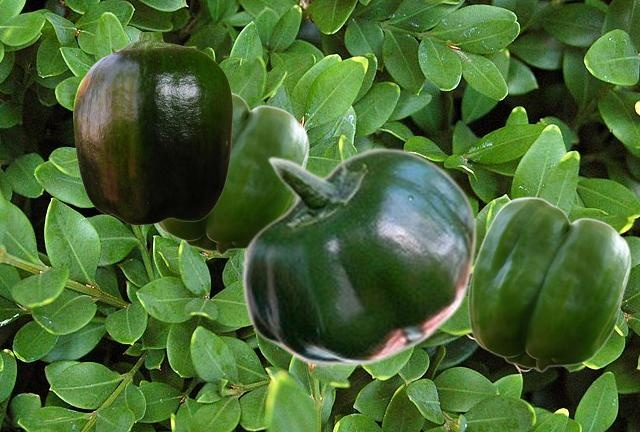bell_pepper: (240, 147, 476, 365), (73, 32, 232, 224), (467, 196, 630, 371), (156, 92, 308, 254)
